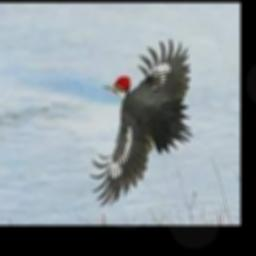Woodpecker: (89, 37, 193, 205)
